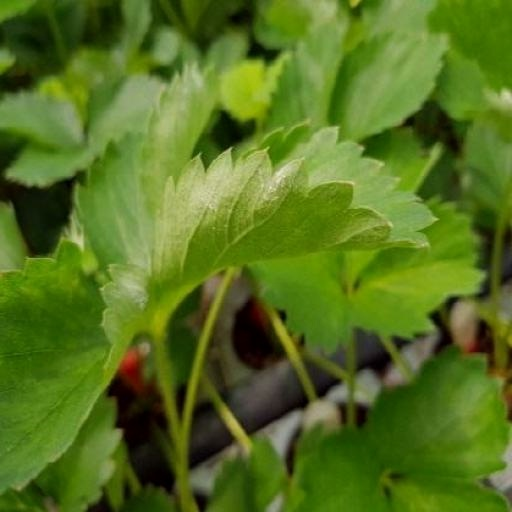Powdery Mildew Leaf: (72, 119, 360, 312), (357, 238, 511, 494)
